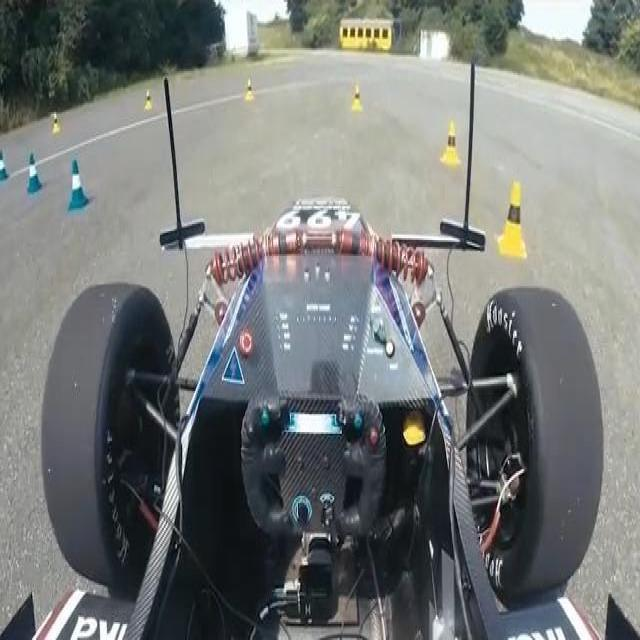blue_cone: (68, 158, 90, 212), (27, 153, 44, 195), (0, 151, 10, 183)
yellow_cone: (497, 180, 528, 258), (440, 121, 461, 167), (351, 85, 364, 114), (245, 78, 254, 101), (52, 114, 61, 135), (145, 91, 153, 111)
